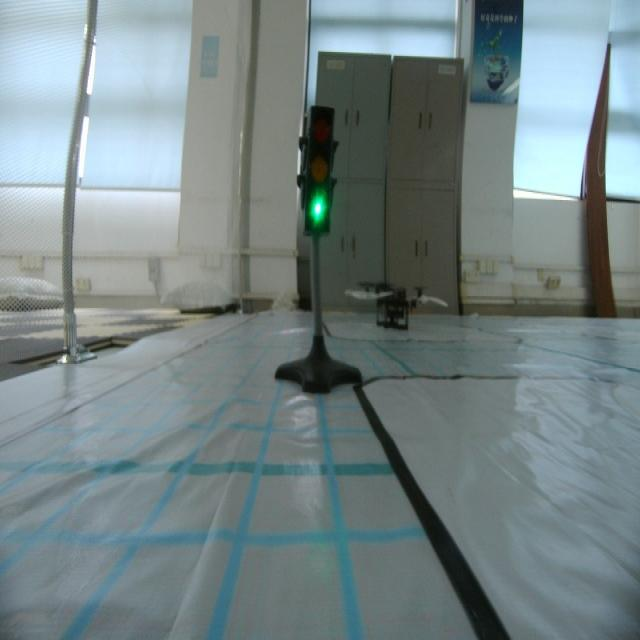green: (297, 104, 337, 241)
